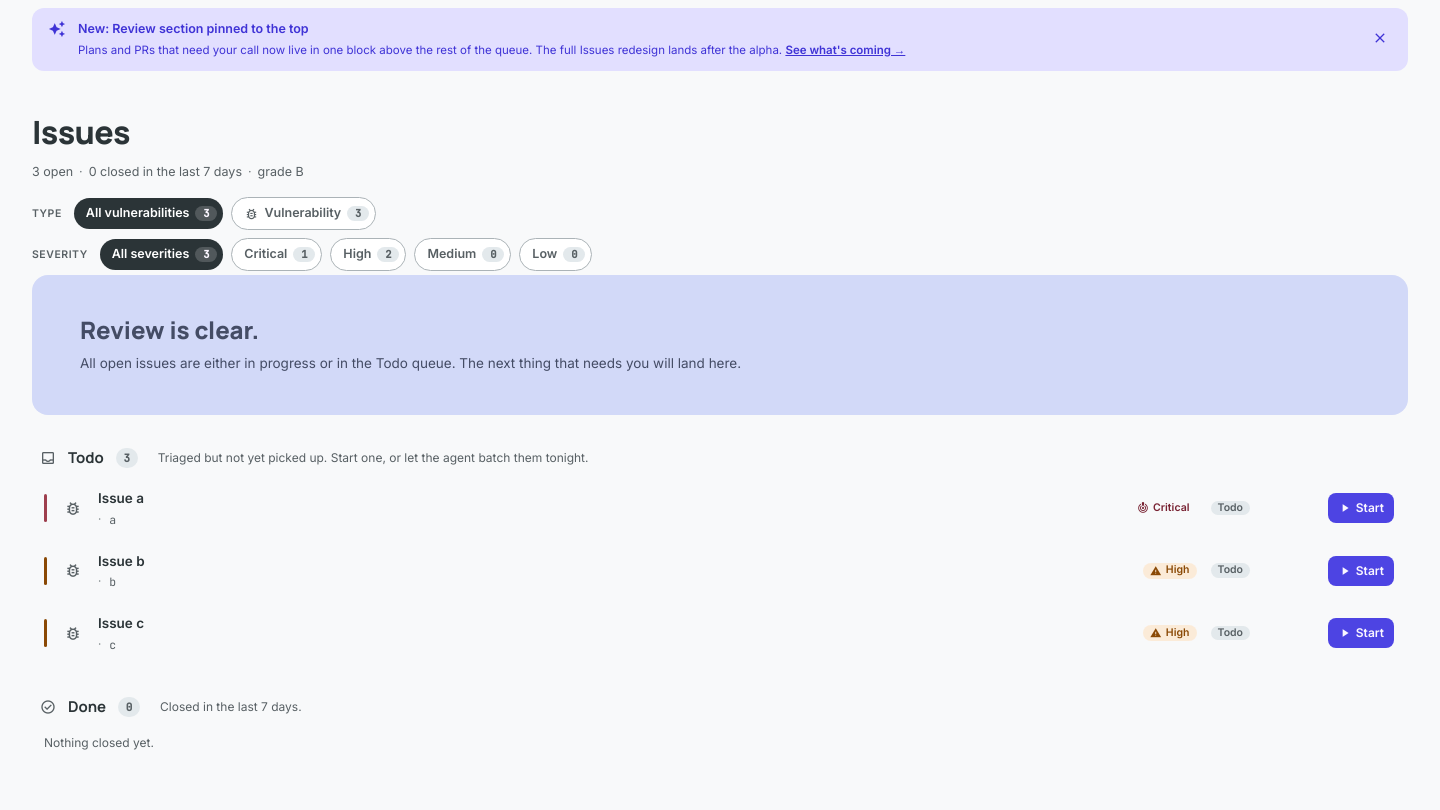
Test: IssuesPage › Severity filter narrows the visible rows
Expected: the text "Issue a" is shown, [98,488,144,509]
Expected: the text "Issue b" is shown, [98,551,145,571]
Click the button "Critical 1" at (277, 254), box [231,238,322,271]
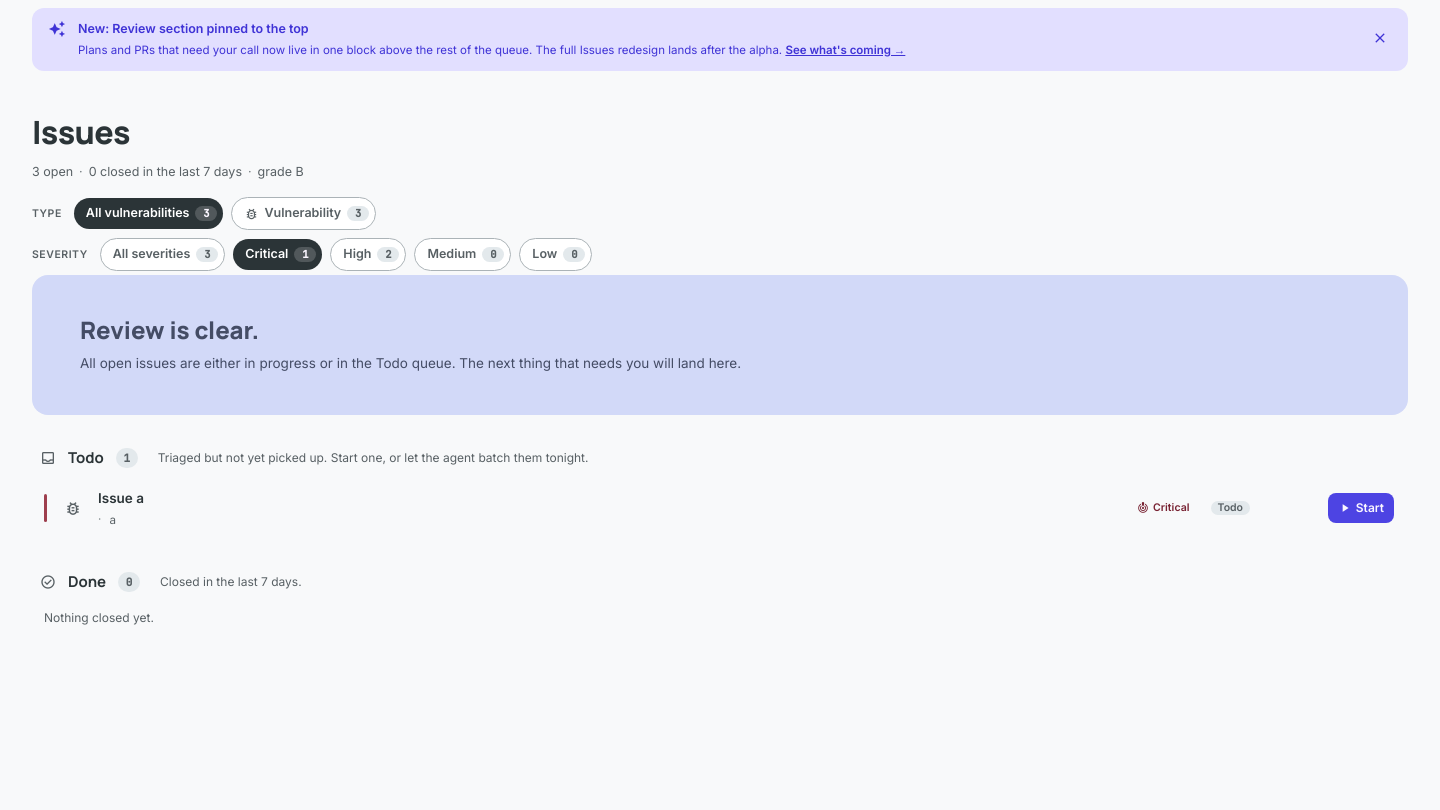
Expected: the text "Issue a" is shown, [98,488,144,509]
Expected: the text "Issue b" is gone
